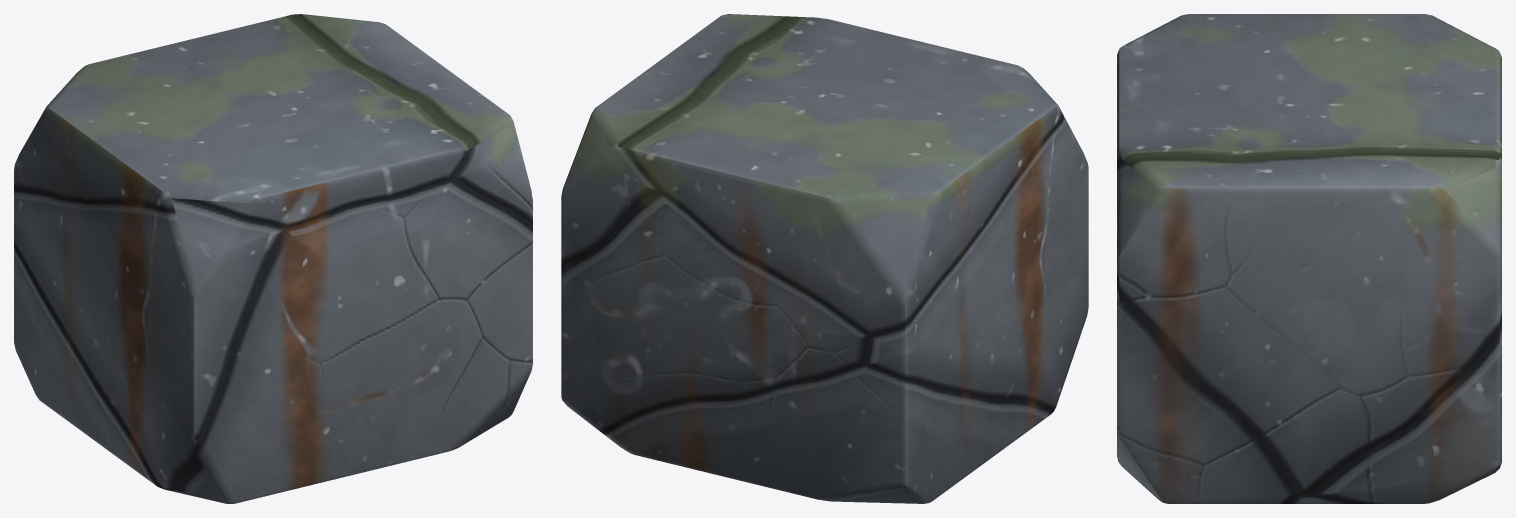
File: rock_metal_small_b.glb
The picture shows the model from 3 angles, left to right: view 1: azimuth 30°, elevation 25°; view 2: azimuth 150°, elevation 25°; view 3: azimuth 270°, elevation 25°; orthographic projection. The views are drawn at different scales.
Visible parts, largest first — view 1: RockMetal_small_b; view 2: RockMetal_small_b; view 3: RockMetal_small_b.
Part boxes in pixels (box(x1,y1,x2,y2)): RockMetal_small_b: box(14, 14, 532, 503); RockMetal_small_b: box(561, 14, 1088, 503); RockMetal_small_b: box(1117, 14, 1501, 503).
Size of the model in its own units: 0.65 by 0.55 by 0.6.
Materials: 1 (1 with a texture image).
